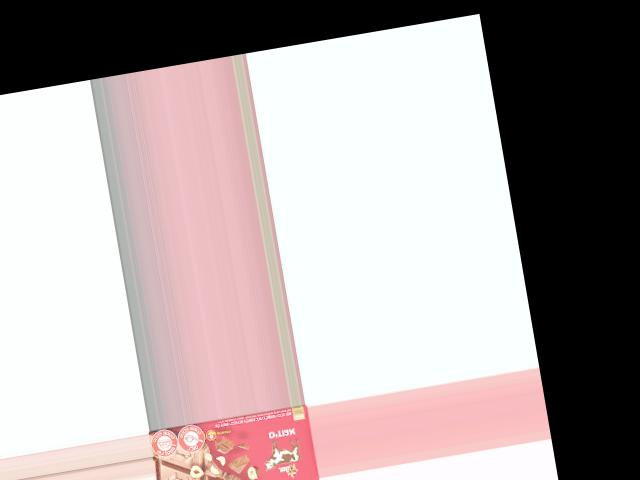chocolate: (149, 406, 320, 480)
